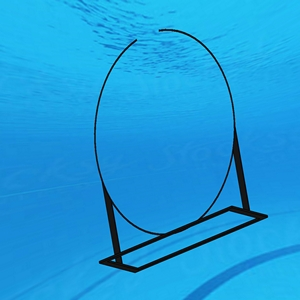circle: (87, 27, 275, 276)
